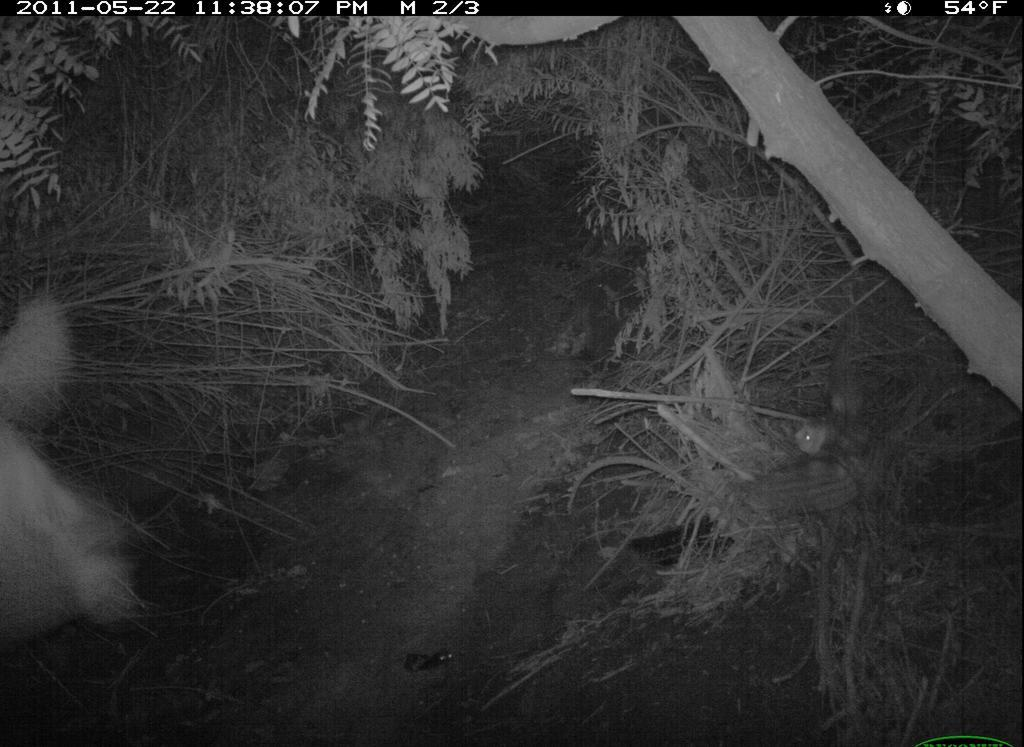bird: (4, 291, 152, 645), (793, 344, 912, 528)
